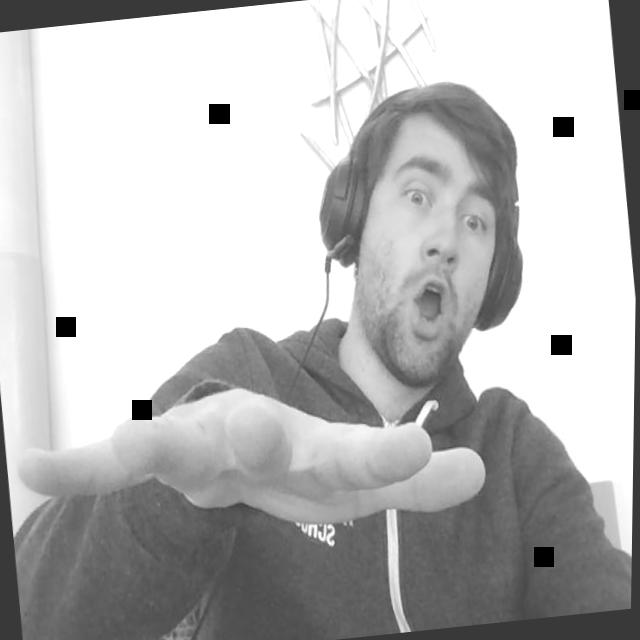Paper: (4, 366, 503, 565)
